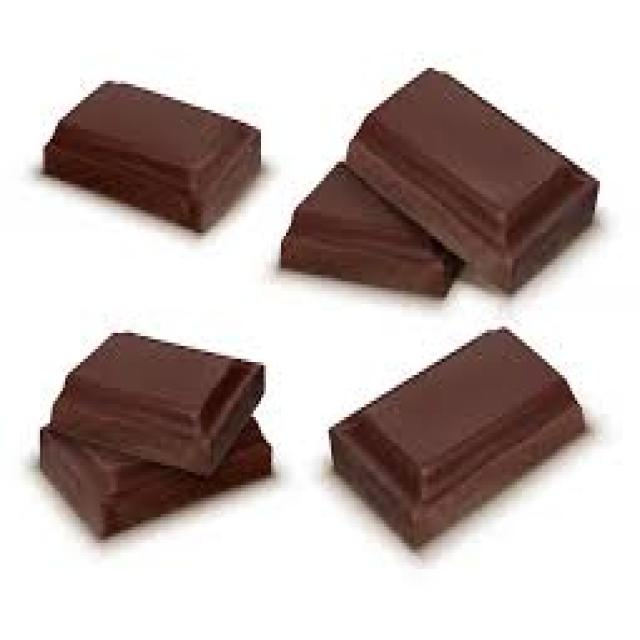Chocolate: (278, 65, 600, 307), (325, 328, 590, 563), (36, 322, 276, 550), (39, 72, 262, 238)
